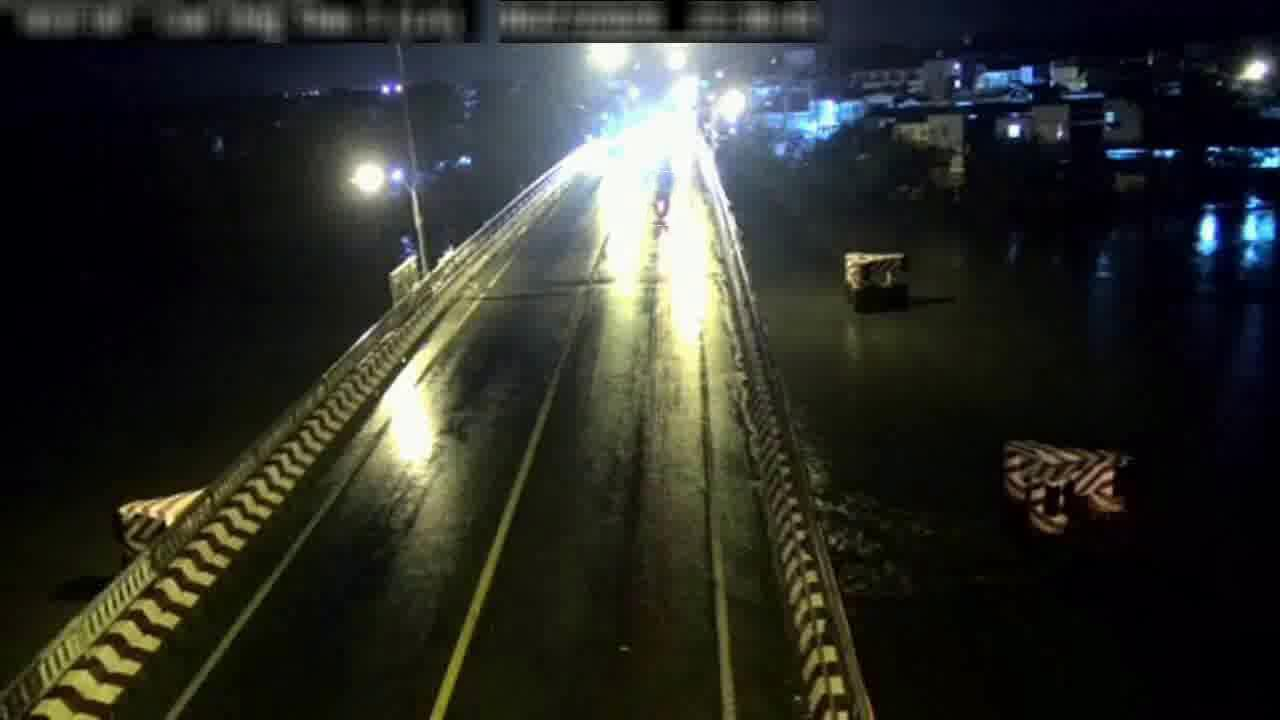motorbike: (646, 171, 678, 227)
